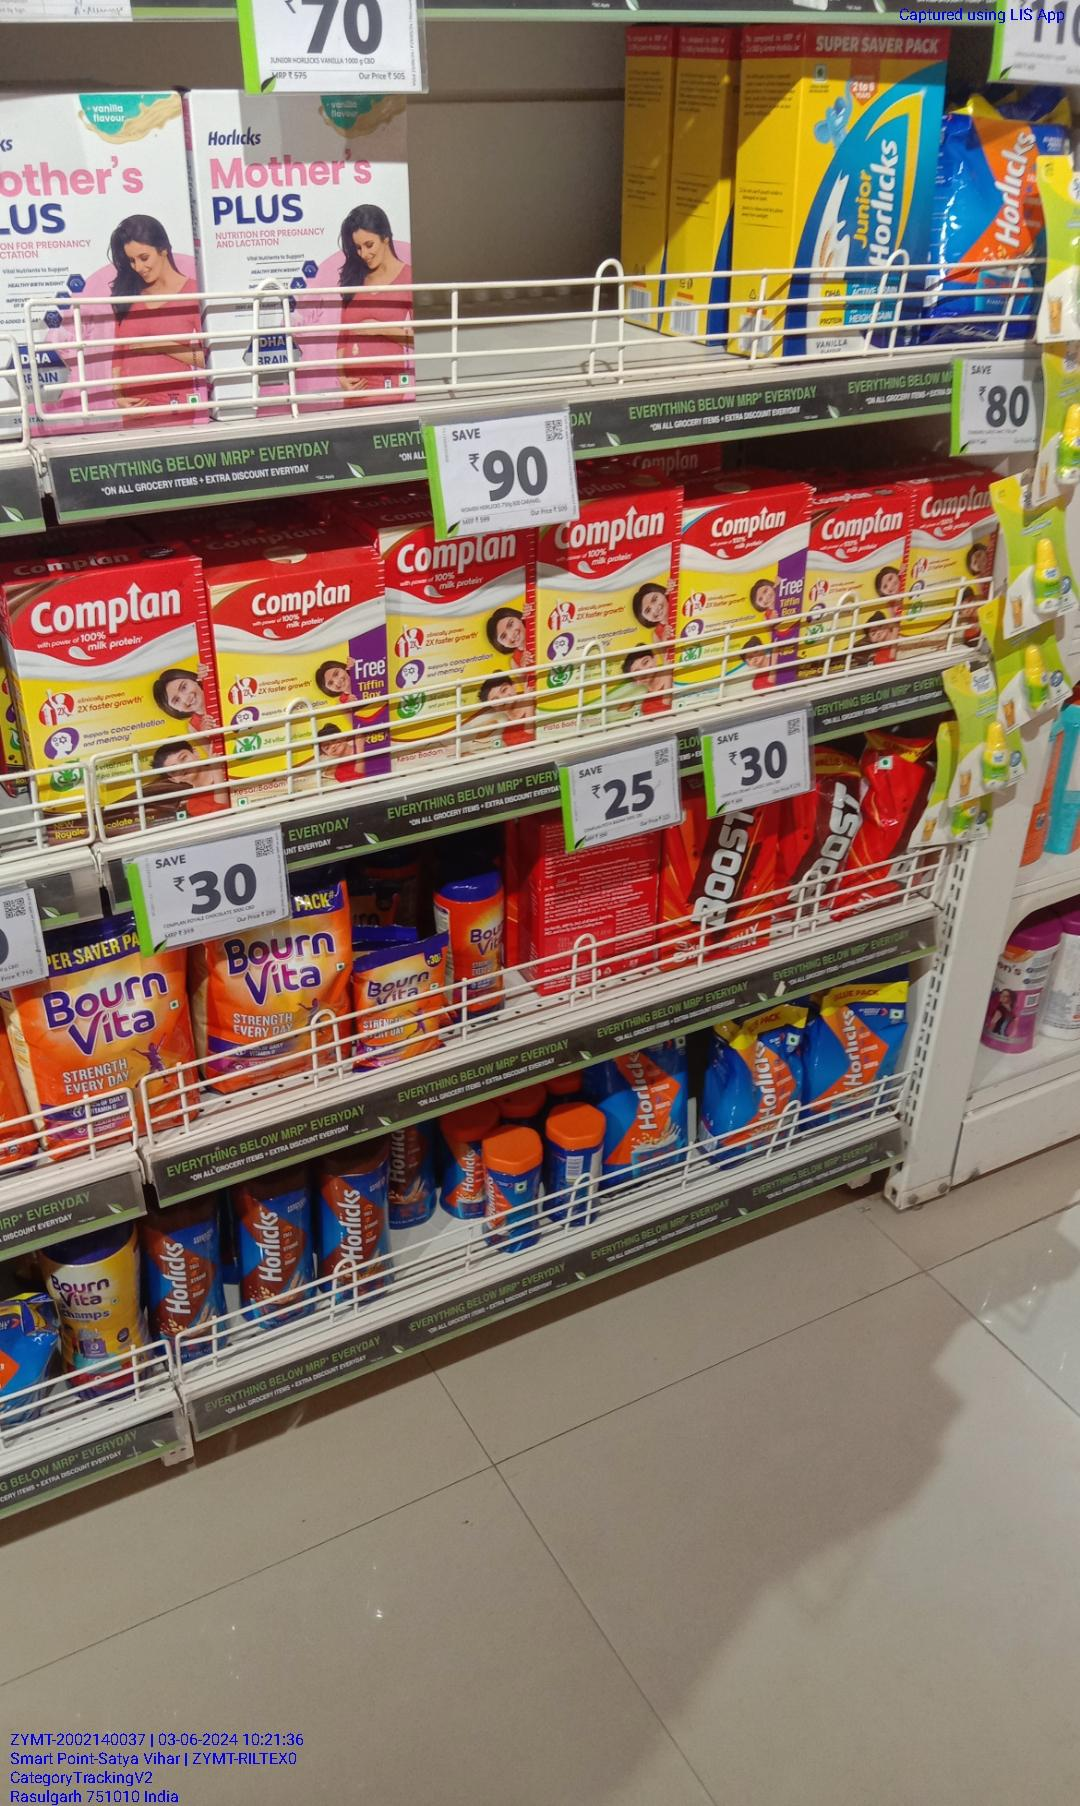BOURN_VITA_75_G_POUCH: (348, 937, 446, 1071)
BOURN_VITA_CHAMPS_500_G_JAR: (44, 1228, 143, 1392)
